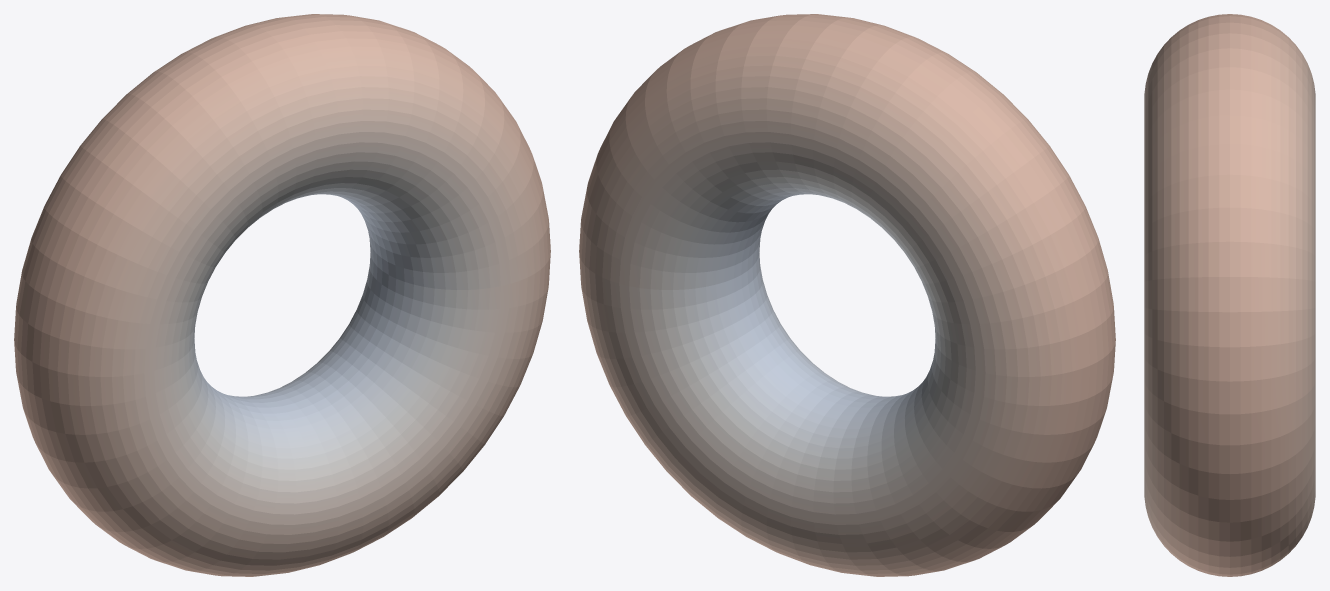
3 views of the same model, side by side, from view 1: azimuth 30°, elevation 25°; view 2: azimuth 150°, elevation 25°; view 3: azimuth 270°, elevation 25° (orthographic). The views are drawn at different scales.
Parts seen in each view (by area): view 1: world; view 2: world; view 3: world.
Part boxes in pixels (box(x1,y1,x2,y2)): world: box(14, 14, 550, 576); world: box(579, 14, 1115, 576); world: box(1144, 14, 1315, 576).
Bounding box in the file's own units: 24.93 × 24.88 × 7.59.
